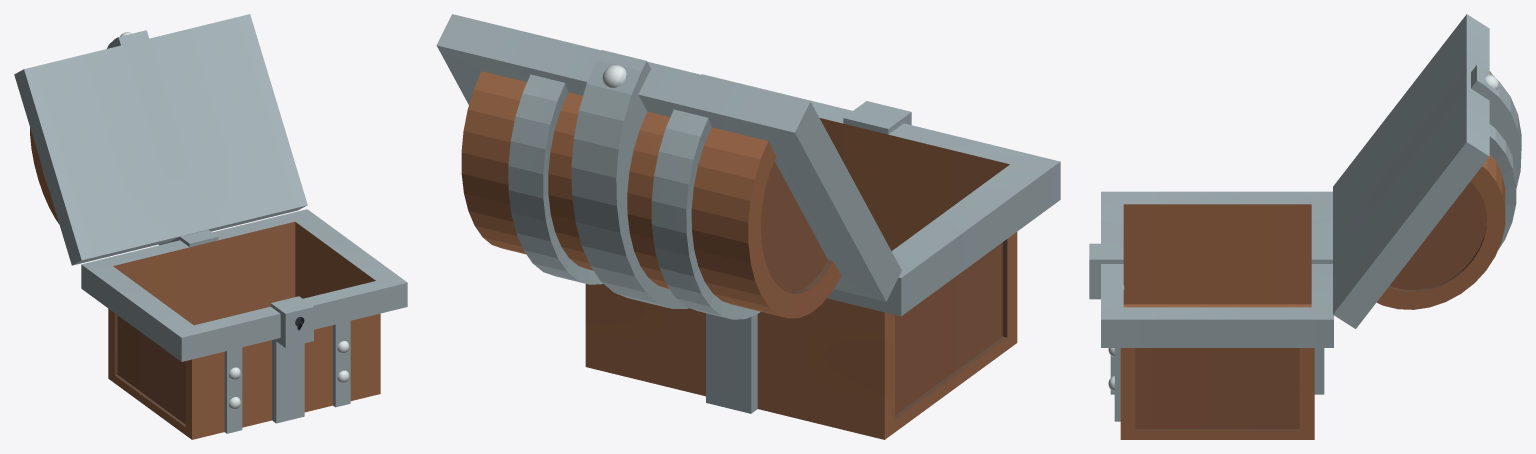
File: chest.fbx
The picture shows the model from 3 angles, left to right: view 1: azimuth 30°, elevation 25°; view 2: azimuth 150°, elevation 25°; view 3: azimuth 270°, elevation 25°; orthographic projection. The views are drawn at different scales.
Visible parts, largest first — view 1: Cube, Cylinder, Cube.002; view 2: Cylinder, Cube; view 3: Cube, Cylinder.
Part boxes in pixels (x1,y1,x2,y2): Cube: [81, 209, 407, 439]; Cylinder: [14, 14, 307, 265]; Cube.002: [229, 341, 349, 409]; Cylinder: [436, 14, 901, 319]; Cube: [585, 74, 1060, 439]; Cube: [1089, 191, 1333, 439]; Cylinder: [1333, 14, 1521, 328].
Bounding box in the file's own units: 312 × 357 × 445.
1 material, 1 textured.
